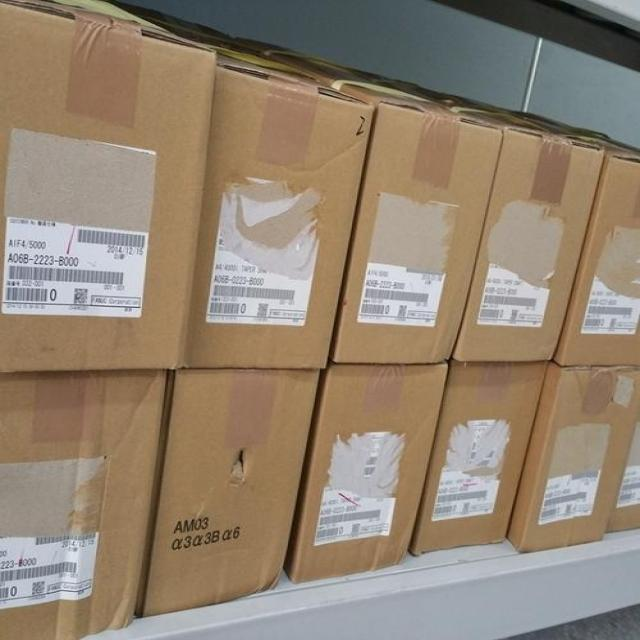box: (105, 3, 375, 370), (242, 36, 500, 364), (0, 2, 217, 375), (427, 89, 605, 362), (135, 366, 320, 618), (0, 370, 166, 638), (284, 364, 448, 580), (518, 108, 639, 368), (405, 365, 550, 557), (501, 365, 639, 553), (604, 442, 639, 535)
